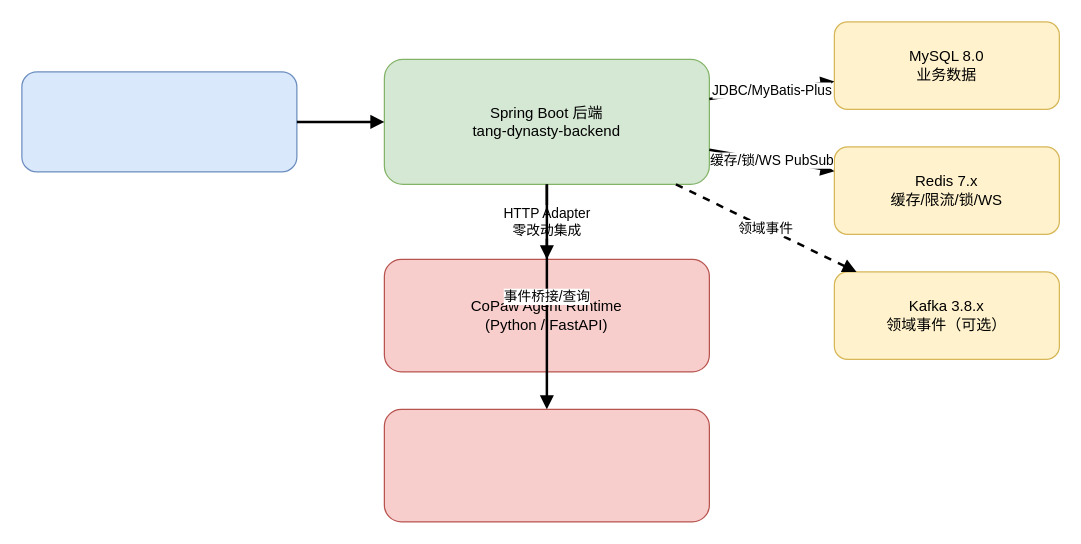
This 1081x544 diagram has some shape labels left out. Each missing label, with the centre of its shape:
Edict Engine (事件驱动编排/派发): point (546, 465)
前端 Website (React + TS + Vite): point (159, 121)
